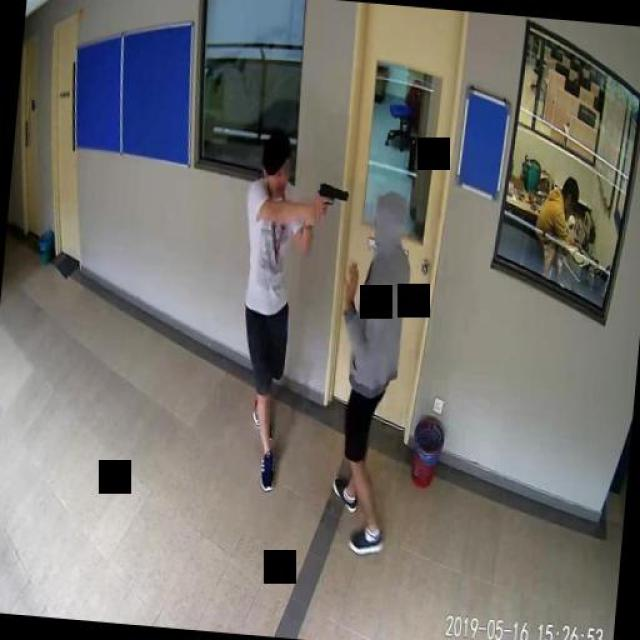gun: (315, 180, 349, 220)
